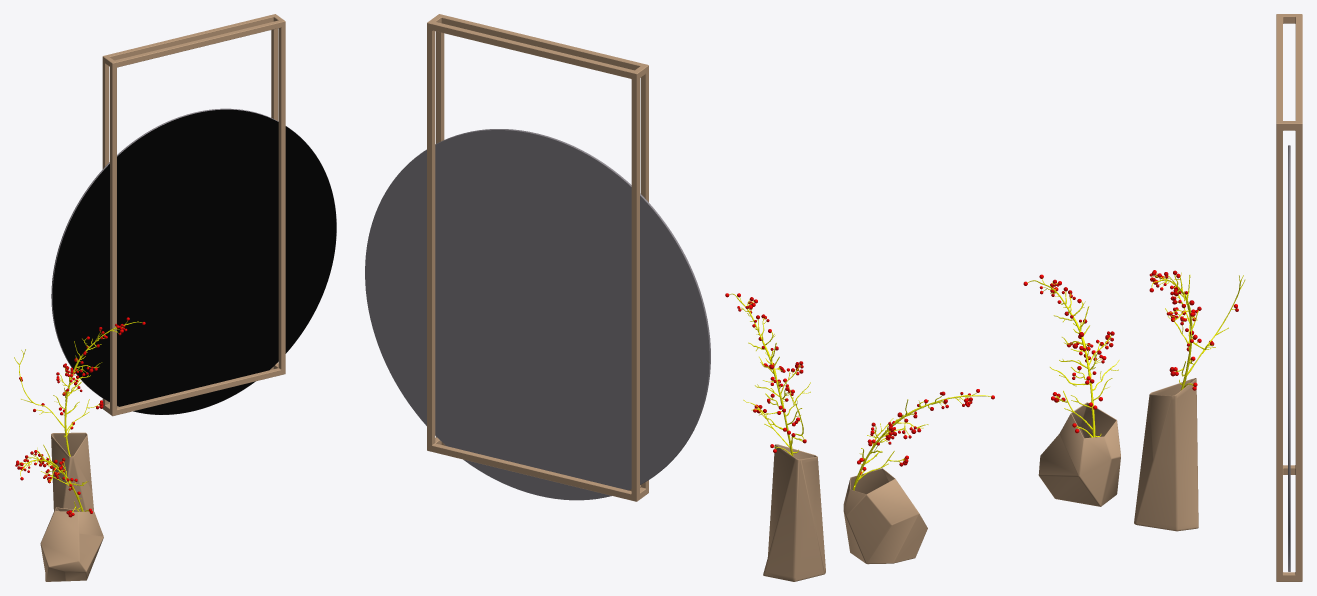
Rendered from designconnected-pendulum-wall-mirror-9203.optimized.glb.
The picture shows the model from 3 angles, left to right: view 1: azimuth 30°, elevation 25°; view 2: azimuth 150°, elevation 25°; view 3: azimuth 270°, elevation 25°; orthographic projection. The views are drawn at different scales.
Parts seen in each view (by area): view 1: CB2_Pendulum_Wall_Mirror_accessories_01, CB2_Pendulum_Wall_Mirror_accessories_02; view 2: CB2_Pendulum_Wall_Mirror_accessories_01, CB2_Pendulum_Wall_Mirror_accessories_02; view 3: CB2_Pendulum_Wall_Mirror_accessories_02, CB2_Pendulum_Wall_Mirror_accessories_01.
Boxes of the visible parts, bbox=[...] form: CB2_Pendulum_Wall_Mirror_accessories_01: bbox=[51, 14, 336, 416]; CB2_Pendulum_Wall_Mirror_accessories_02: bbox=[14, 317, 145, 581]; CB2_Pendulum_Wall_Mirror_accessories_01: bbox=[365, 14, 710, 501]; CB2_Pendulum_Wall_Mirror_accessories_02: bbox=[725, 293, 994, 581]; CB2_Pendulum_Wall_Mirror_accessories_02: bbox=[1023, 270, 1245, 531]; CB2_Pendulum_Wall_Mirror_accessories_01: bbox=[1276, 14, 1302, 581].
Size of the model in its own units: 1.19 by 1.17 by 0.5315.
2 materials, 1 textured.
